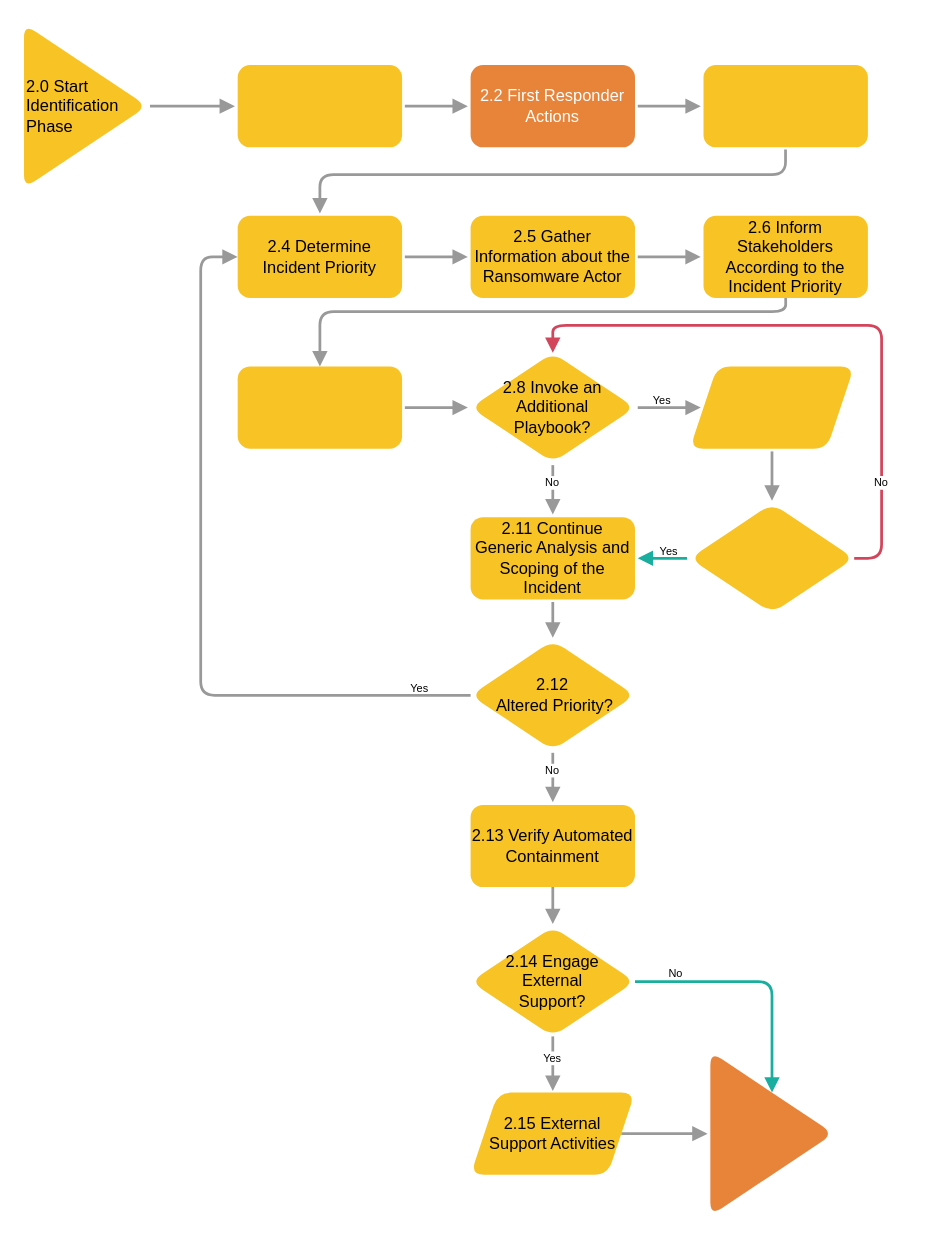
Image size: 945x1238. Some labels were removed from this diagram. The centre of each missing label's shape, as x and y in pixels:
2.1 Incident Notification/Reporting: (319,105)
2.10 Playbook Ran Successfully?: (771,557)
2.3 Scope Impacted Data/Physical Assets: (785,105)
2.7 Assess Actor Footprint: (319,407)
2.9 Activate Respective Playbook: (771,407)
3.0 Start Containment Phase: (771,1133)
